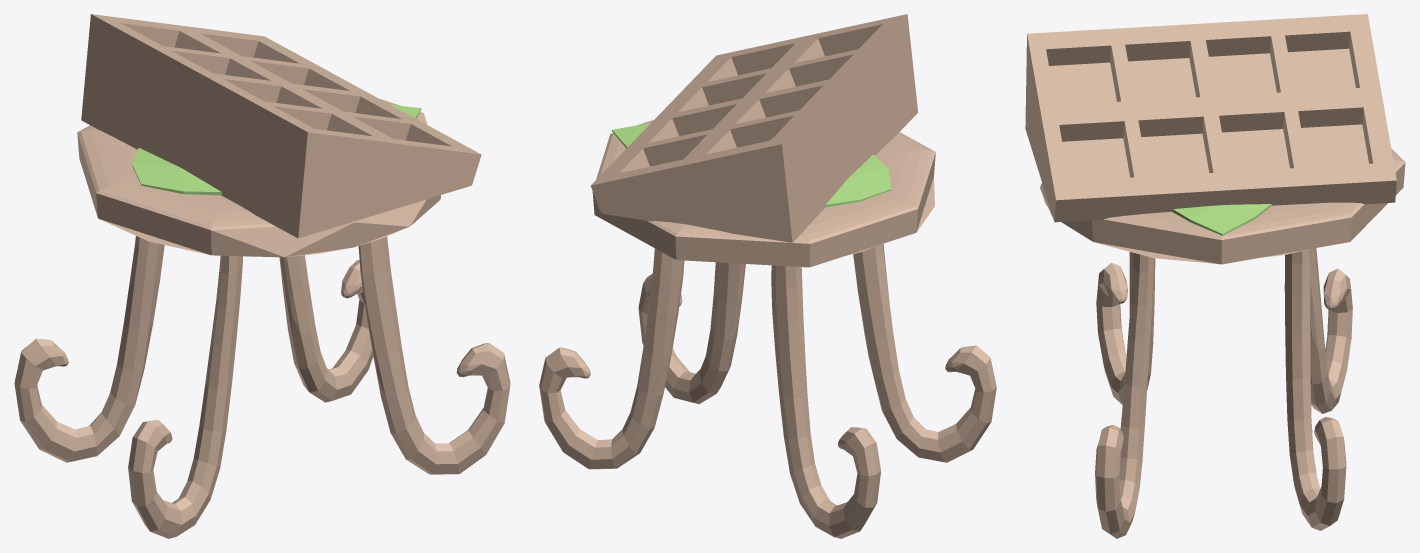
File: petalsbox.fbx
3 renders of one model, left to right at view 1: azimuth 30°, elevation 25°; view 2: azimuth 150°, elevation 25°; view 3: azimuth 270°, elevation 25°, orthographic. The views are drawn at different scales.
Visible parts, largest first — view 1: Cube.015, Cube.002; view 2: Cube.015, Cube.002; view 3: Cube.002, Cube.015.
Part boxes in pixels (left/top/right/bottom): Cube.015: left=14, top=99, right=510, bottom=538; Cube.002: left=81, top=14, right=481, bottom=238; Cube.015: left=539, top=120, right=996, bottom=538; Cube.002: left=590, top=14, right=917, bottom=242; Cube.002: left=1025, top=14, right=1396, bottom=222; Cube.015: left=1040, top=148, right=1405, bottom=538.
Bounding box in the file's own units: 150 × 161 × 135.
